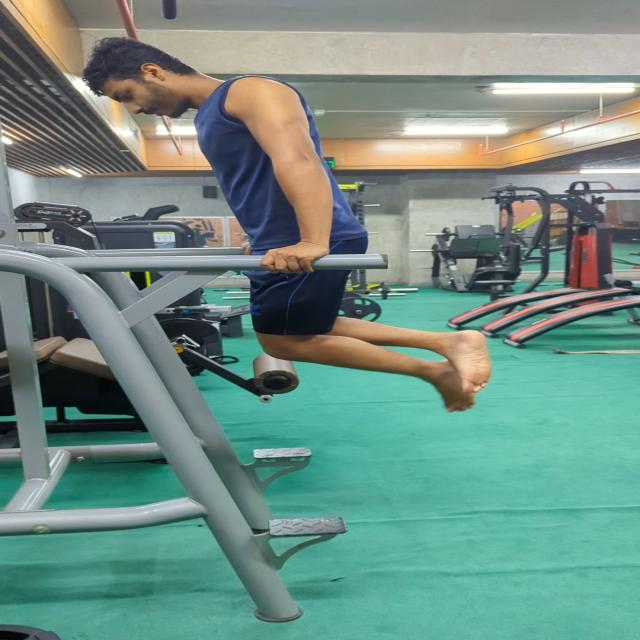Normal_Dips: (74, 31, 554, 416)
